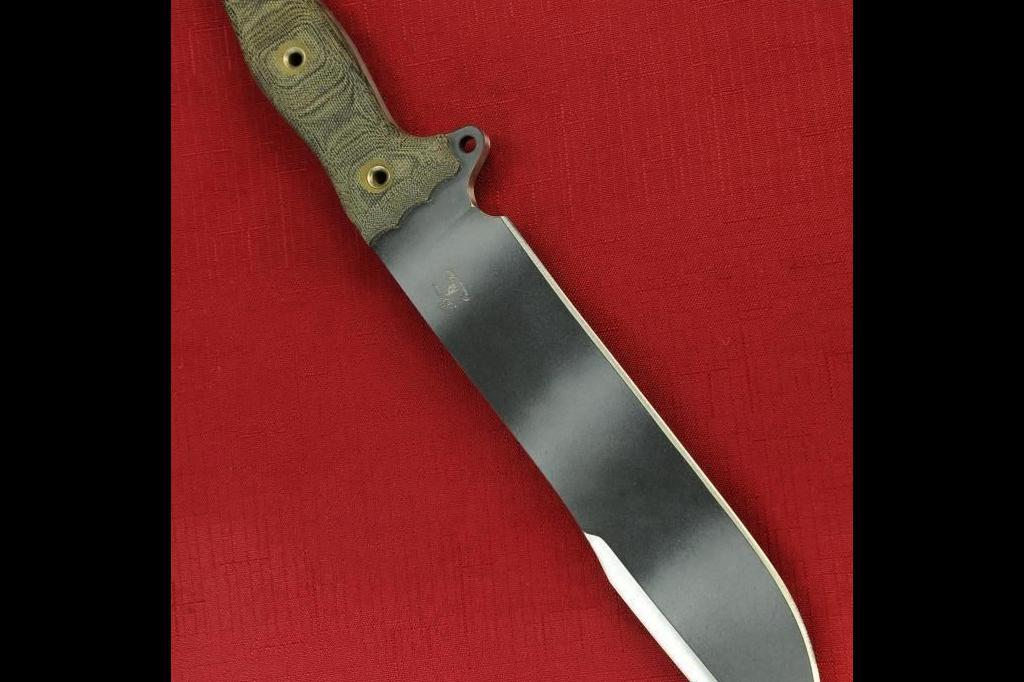melee: (186, 0, 817, 682)
